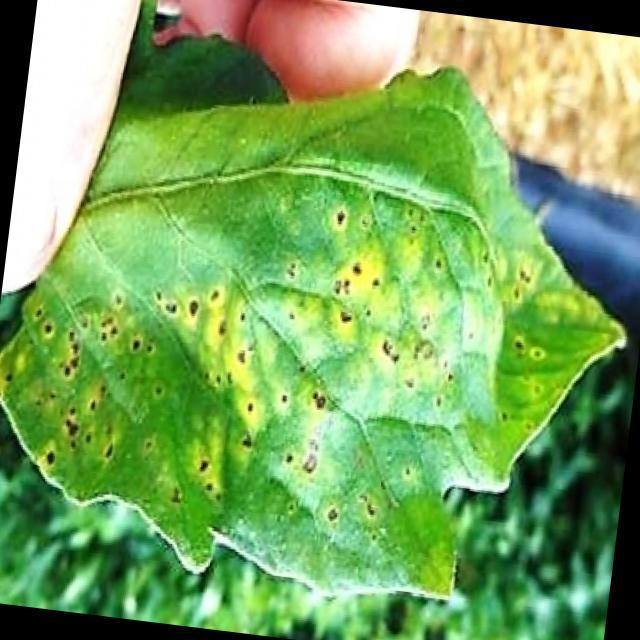Bacterial Spot: (37, 168, 504, 528)
